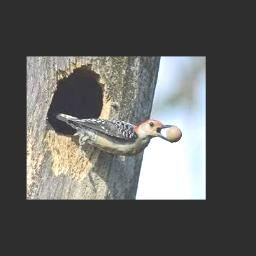Woodpecker: (56, 112, 177, 157)
